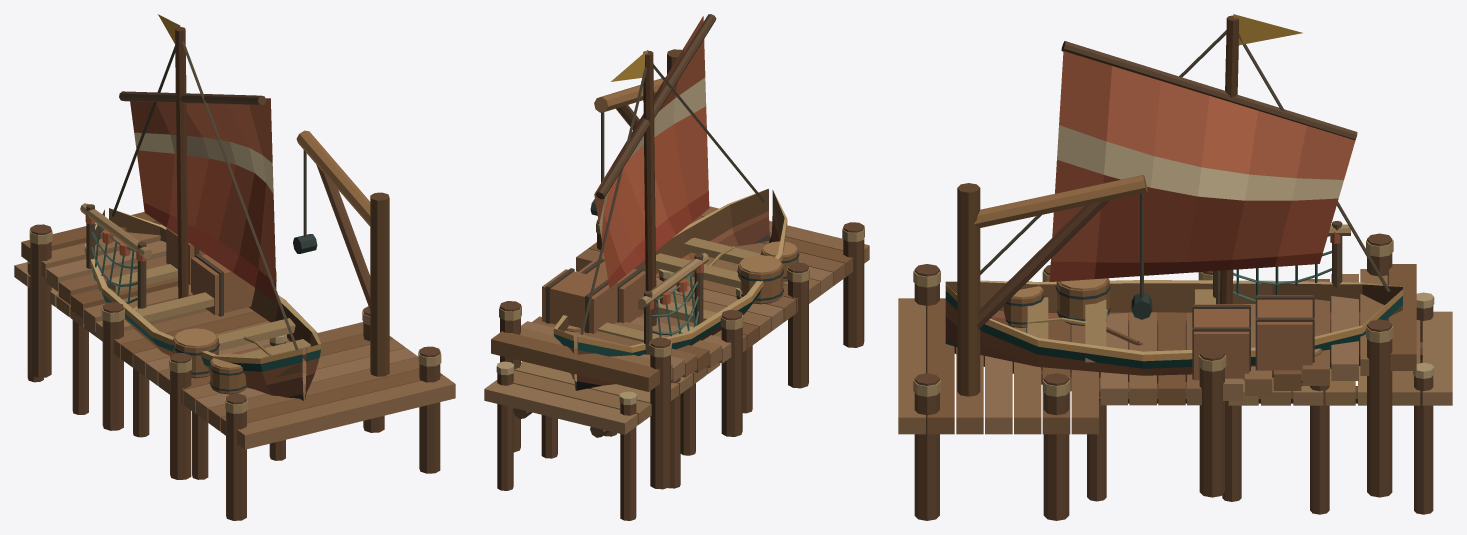
Rendered from saltwick-harbor.glb.
3 views of the same model, side by side, from view 1: azimuth 30°, elevation 25°; view 2: azimuth 150°, elevation 25°; view 3: azimuth 270°, elevation 25° (orthographic). The views are drawn at different scales.
Visible parts, largest first — view 1: Fish quay, Ochre lugger, fishingpier; view 2: Fish quay, Ochre lugger, fishingpier; view 3: Ochre lugger, Fish quay, fishingpier.
Boxes of the visible parts, x1,y1,x2,y2 form: Fish quay: (21, 130, 455, 520); Ochre lugger: (84, 14, 320, 400); fishingpier: (14, 203, 286, 479); Fish quay: (491, 49, 869, 489); Ochre lugger: (553, 14, 787, 390); fishingpier: (484, 253, 752, 520); Ochre lugger: (945, 14, 1402, 384); Fish quay: (898, 175, 1416, 520); fishingpier: (1070, 221, 1452, 514).
Bounding box in the file's own units: 2.51 × 4.41 × 4.8.
